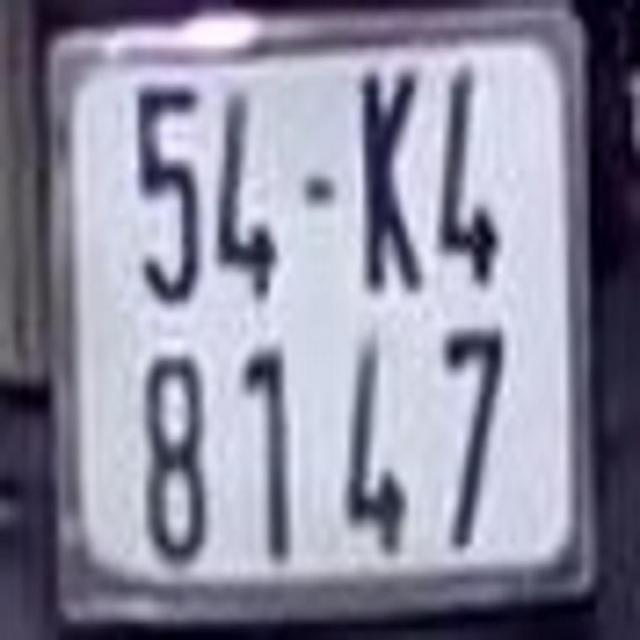1: (236, 338, 311, 573)
4: (337, 336, 414, 566), (433, 60, 506, 295), (209, 78, 281, 308)
5: (130, 85, 203, 302)
7: (438, 322, 509, 551)
8: (142, 344, 213, 571)
K: (357, 65, 427, 297)
